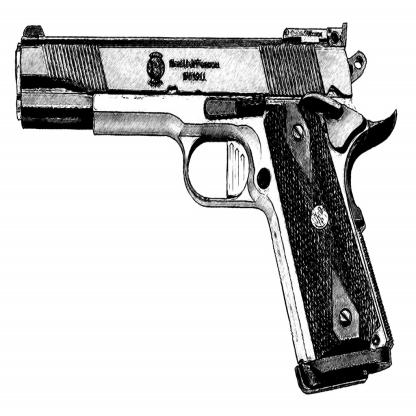Handgun: (15, 24, 398, 394)
